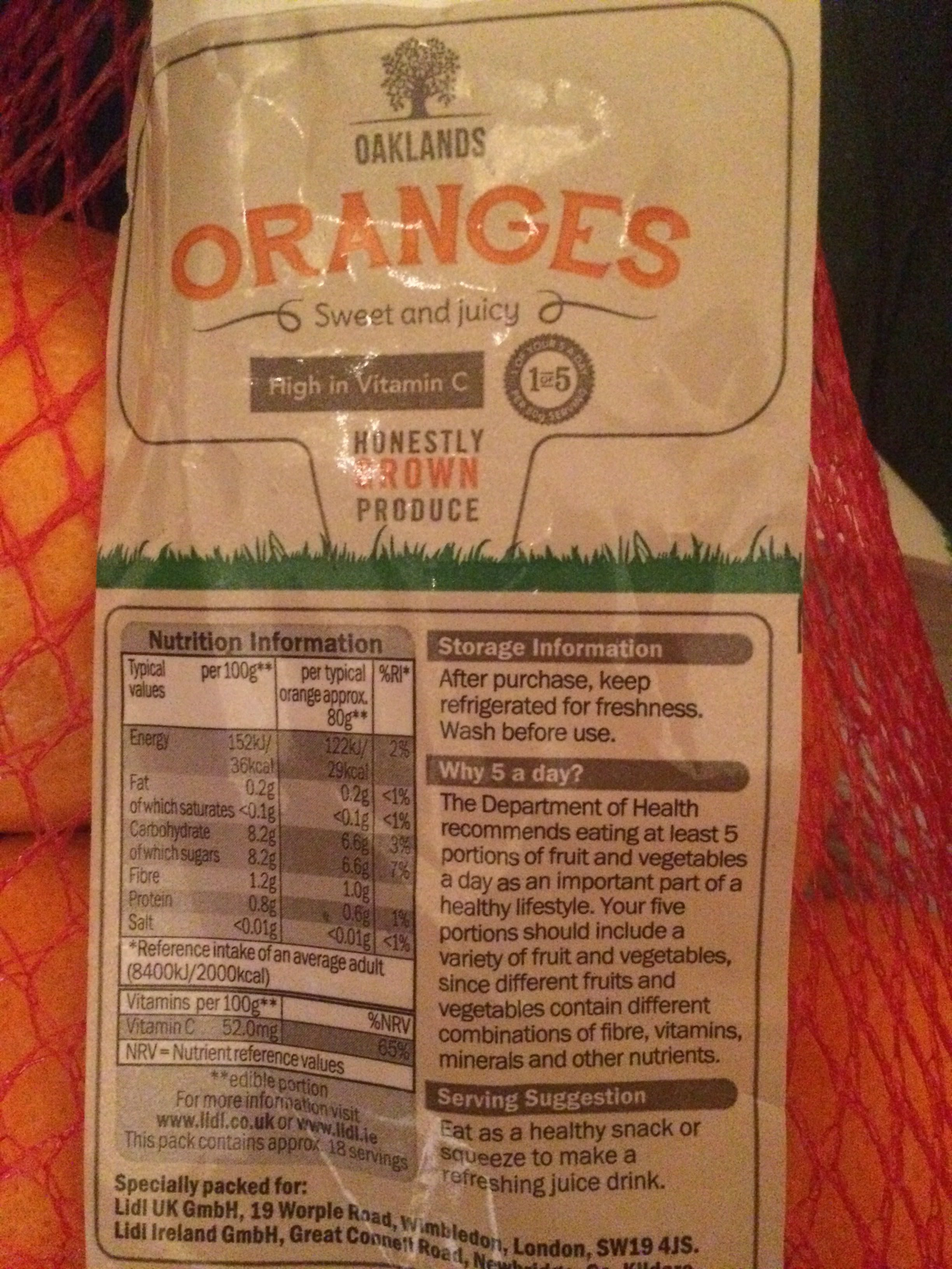Oranges: (48, 63, 904, 1206)
